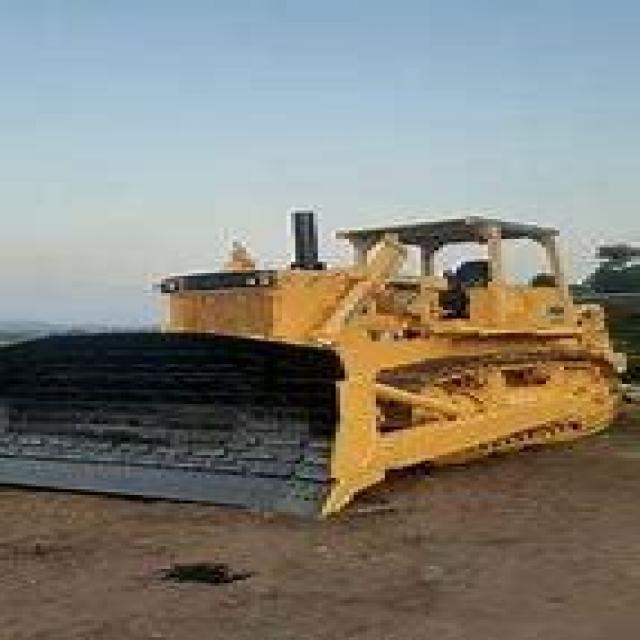Bulldozer: (0, 211, 636, 524)
